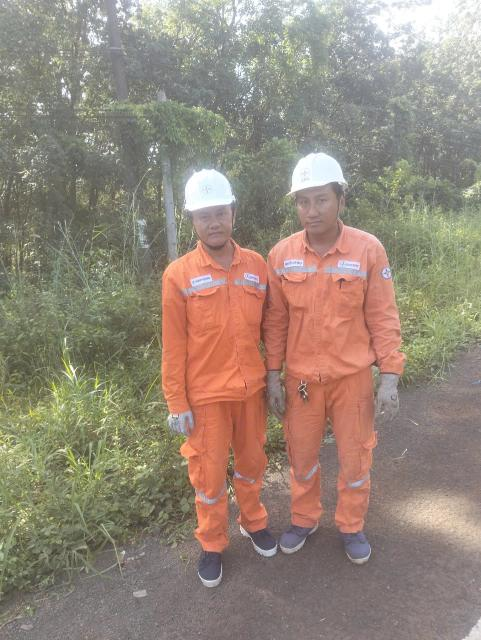gloves: (259, 359, 298, 423), (372, 367, 405, 423), (160, 406, 201, 438)
helmet: (284, 145, 349, 199), (174, 165, 240, 210)
shoes: (335, 515, 386, 568), (190, 542, 234, 594), (277, 507, 319, 557), (239, 508, 281, 554)
